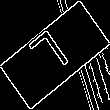L_SE: (30, 25, 80, 85)
